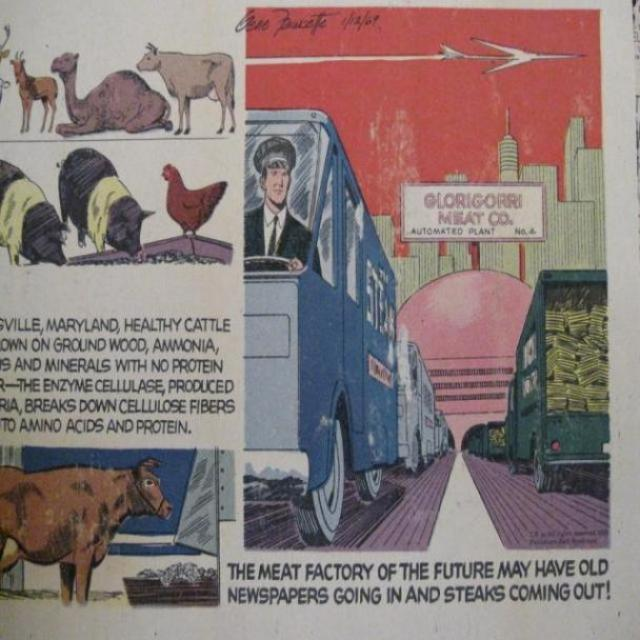Chicken: (146, 132, 216, 247)
